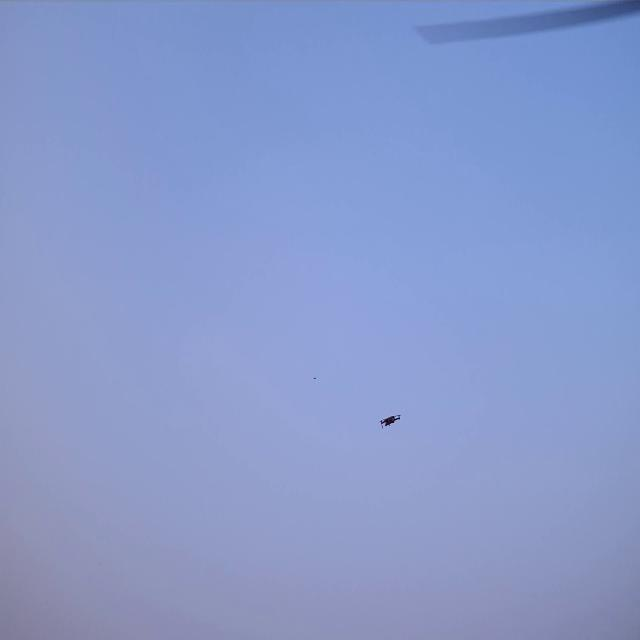UAV: (379, 409, 401, 429)
